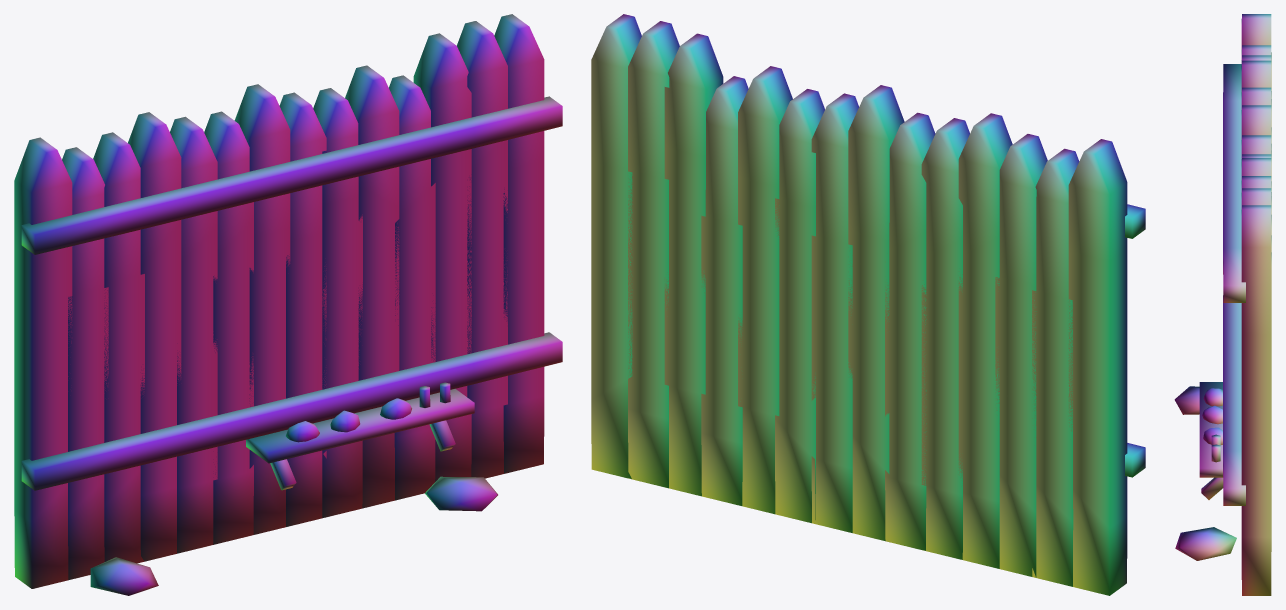
The model's file is SM_Prop_March_NameWall_LOD1.fbx.
The picture shows the model from 3 angles, left to right: view 1: azimuth 30°, elevation 25°; view 2: azimuth 150°, elevation 25°; view 3: azimuth 270°, elevation 25°; orthographic projection. The views are drawn at different scales.
Parts seen in each view (by area): view 1: SM_Prop_March_NameWall_LOD1; view 2: SM_Prop_March_NameWall_LOD1; view 3: SM_Prop_March_NameWall_LOD1.
Part boxes in pixels (x1,y1,x2,y2): SM_Prop_March_NameWall_LOD1: [14, 14, 562, 595]; SM_Prop_March_NameWall_LOD1: [591, 14, 1145, 595]; SM_Prop_March_NameWall_LOD1: [1174, 14, 1271, 595].
Bounding box in the file's own units: 3.11 × 2.5 × 0.5766.
